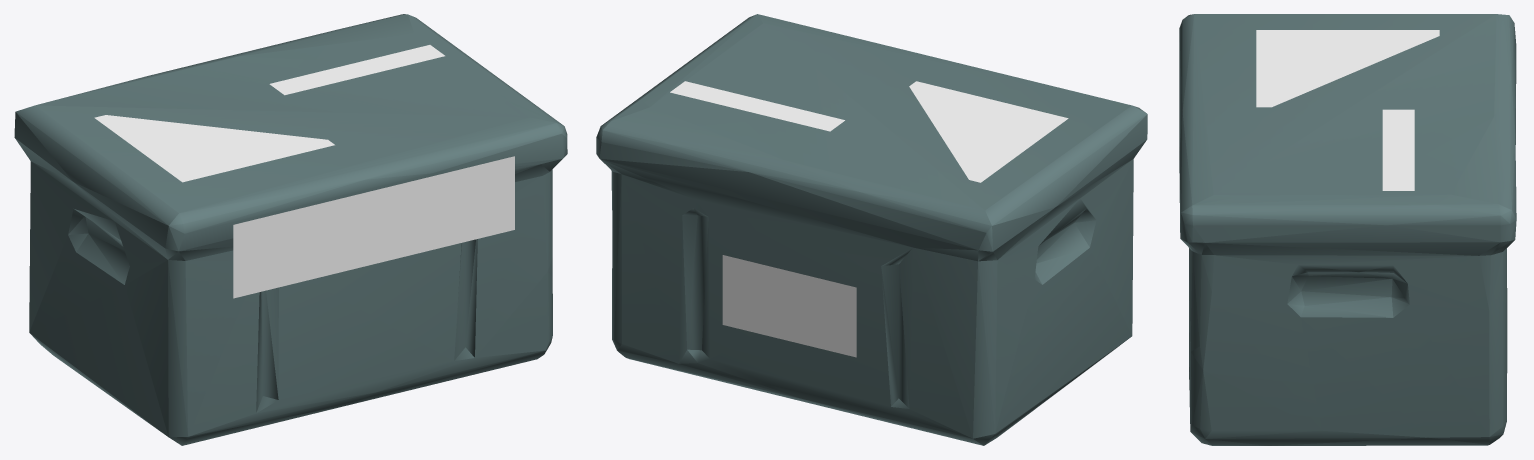
The model's file is caisse_s_b.glb.
The picture shows the model from 3 angles, left to right: view 1: azimuth 30°, elevation 25°; view 2: azimuth 150°, elevation 25°; view 3: azimuth 270°, elevation 25°; orthographic projection. The views are drawn at different scales.
Parts seen in each view (by area): view 1: caisse_s_b, caisse_s_b_decal; view 2: caisse_s_b, caisse_s_b_decal; view 3: caisse_s_b, caisse_s_b_decal.
Boxes of the visible parts, bbox=[...] form: caisse_s_b: bbox=[14, 14, 567, 445]; caisse_s_b_decal: bbox=[94, 45, 514, 298]; caisse_s_b: bbox=[596, 14, 1147, 445]; caisse_s_b_decal: bbox=[670, 81, 1068, 357]; caisse_s_b: bbox=[1179, 14, 1516, 445]; caisse_s_b_decal: bbox=[1256, 30, 1439, 190].
Bounding box in the file's own units: 0.5996 × 0.346 × 0.428.
